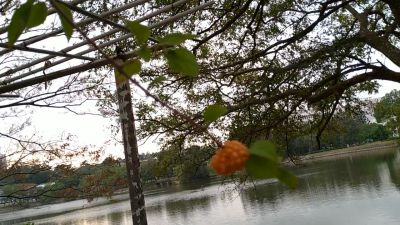eggs: (210, 139, 248, 176)
